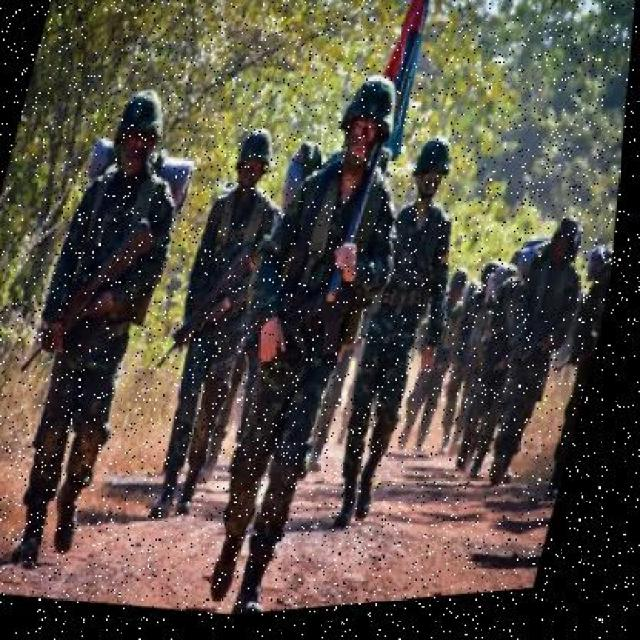MIL_Pax: (195, 57, 414, 623), (7, 78, 210, 576), (135, 112, 302, 534), (314, 146, 478, 554), (489, 216, 600, 487), (528, 215, 622, 523), (407, 256, 476, 470), (444, 252, 518, 446)
